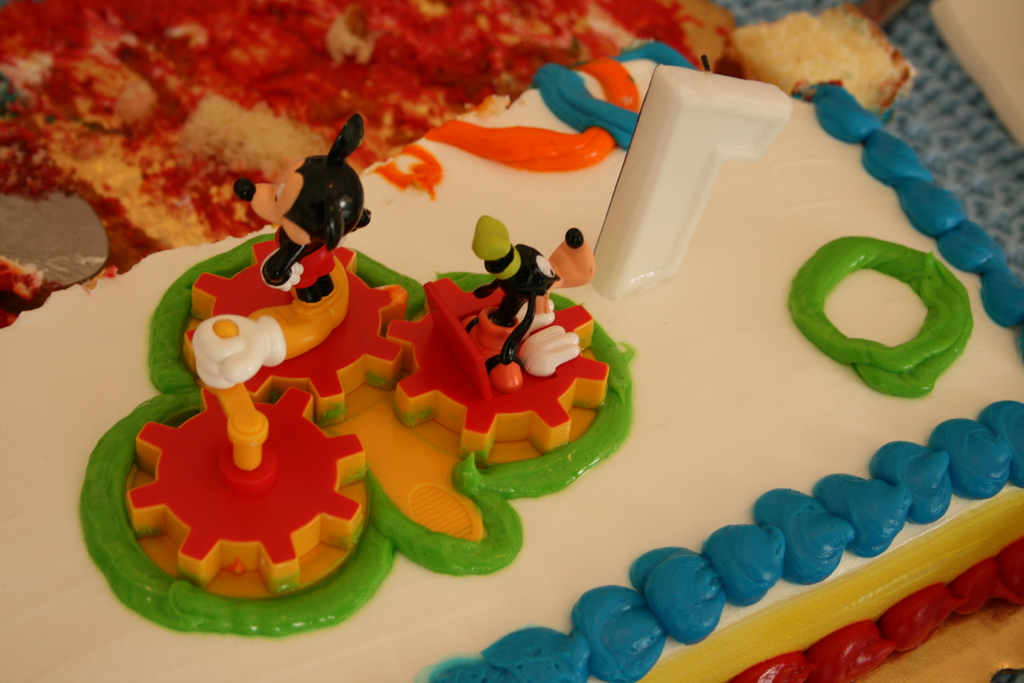cake: (0, 38, 1023, 682)
